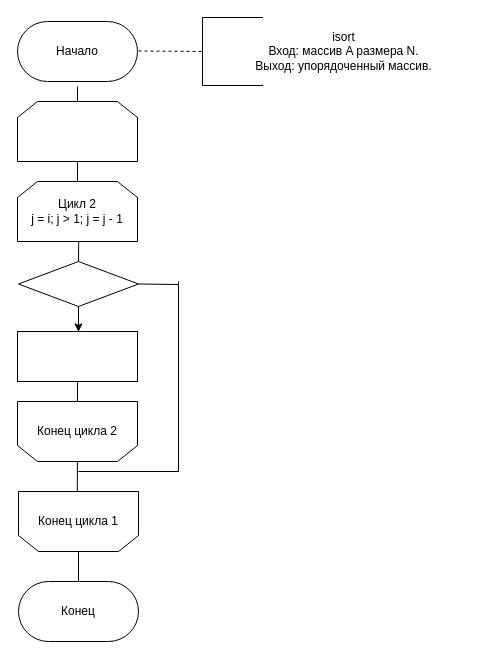
This 486x659 diagram has some shape labels left out. Each missing label, with the box of its shape:
A[j] < A[j - 1]?: (18, 260, 138, 306)
t =A[j] A[j] = A[j - 1] A[j-1] = t: (16, 330, 138, 382)
Цикл 1 i = 1; i <=N; i = i+1: (16, 100, 138, 162)
